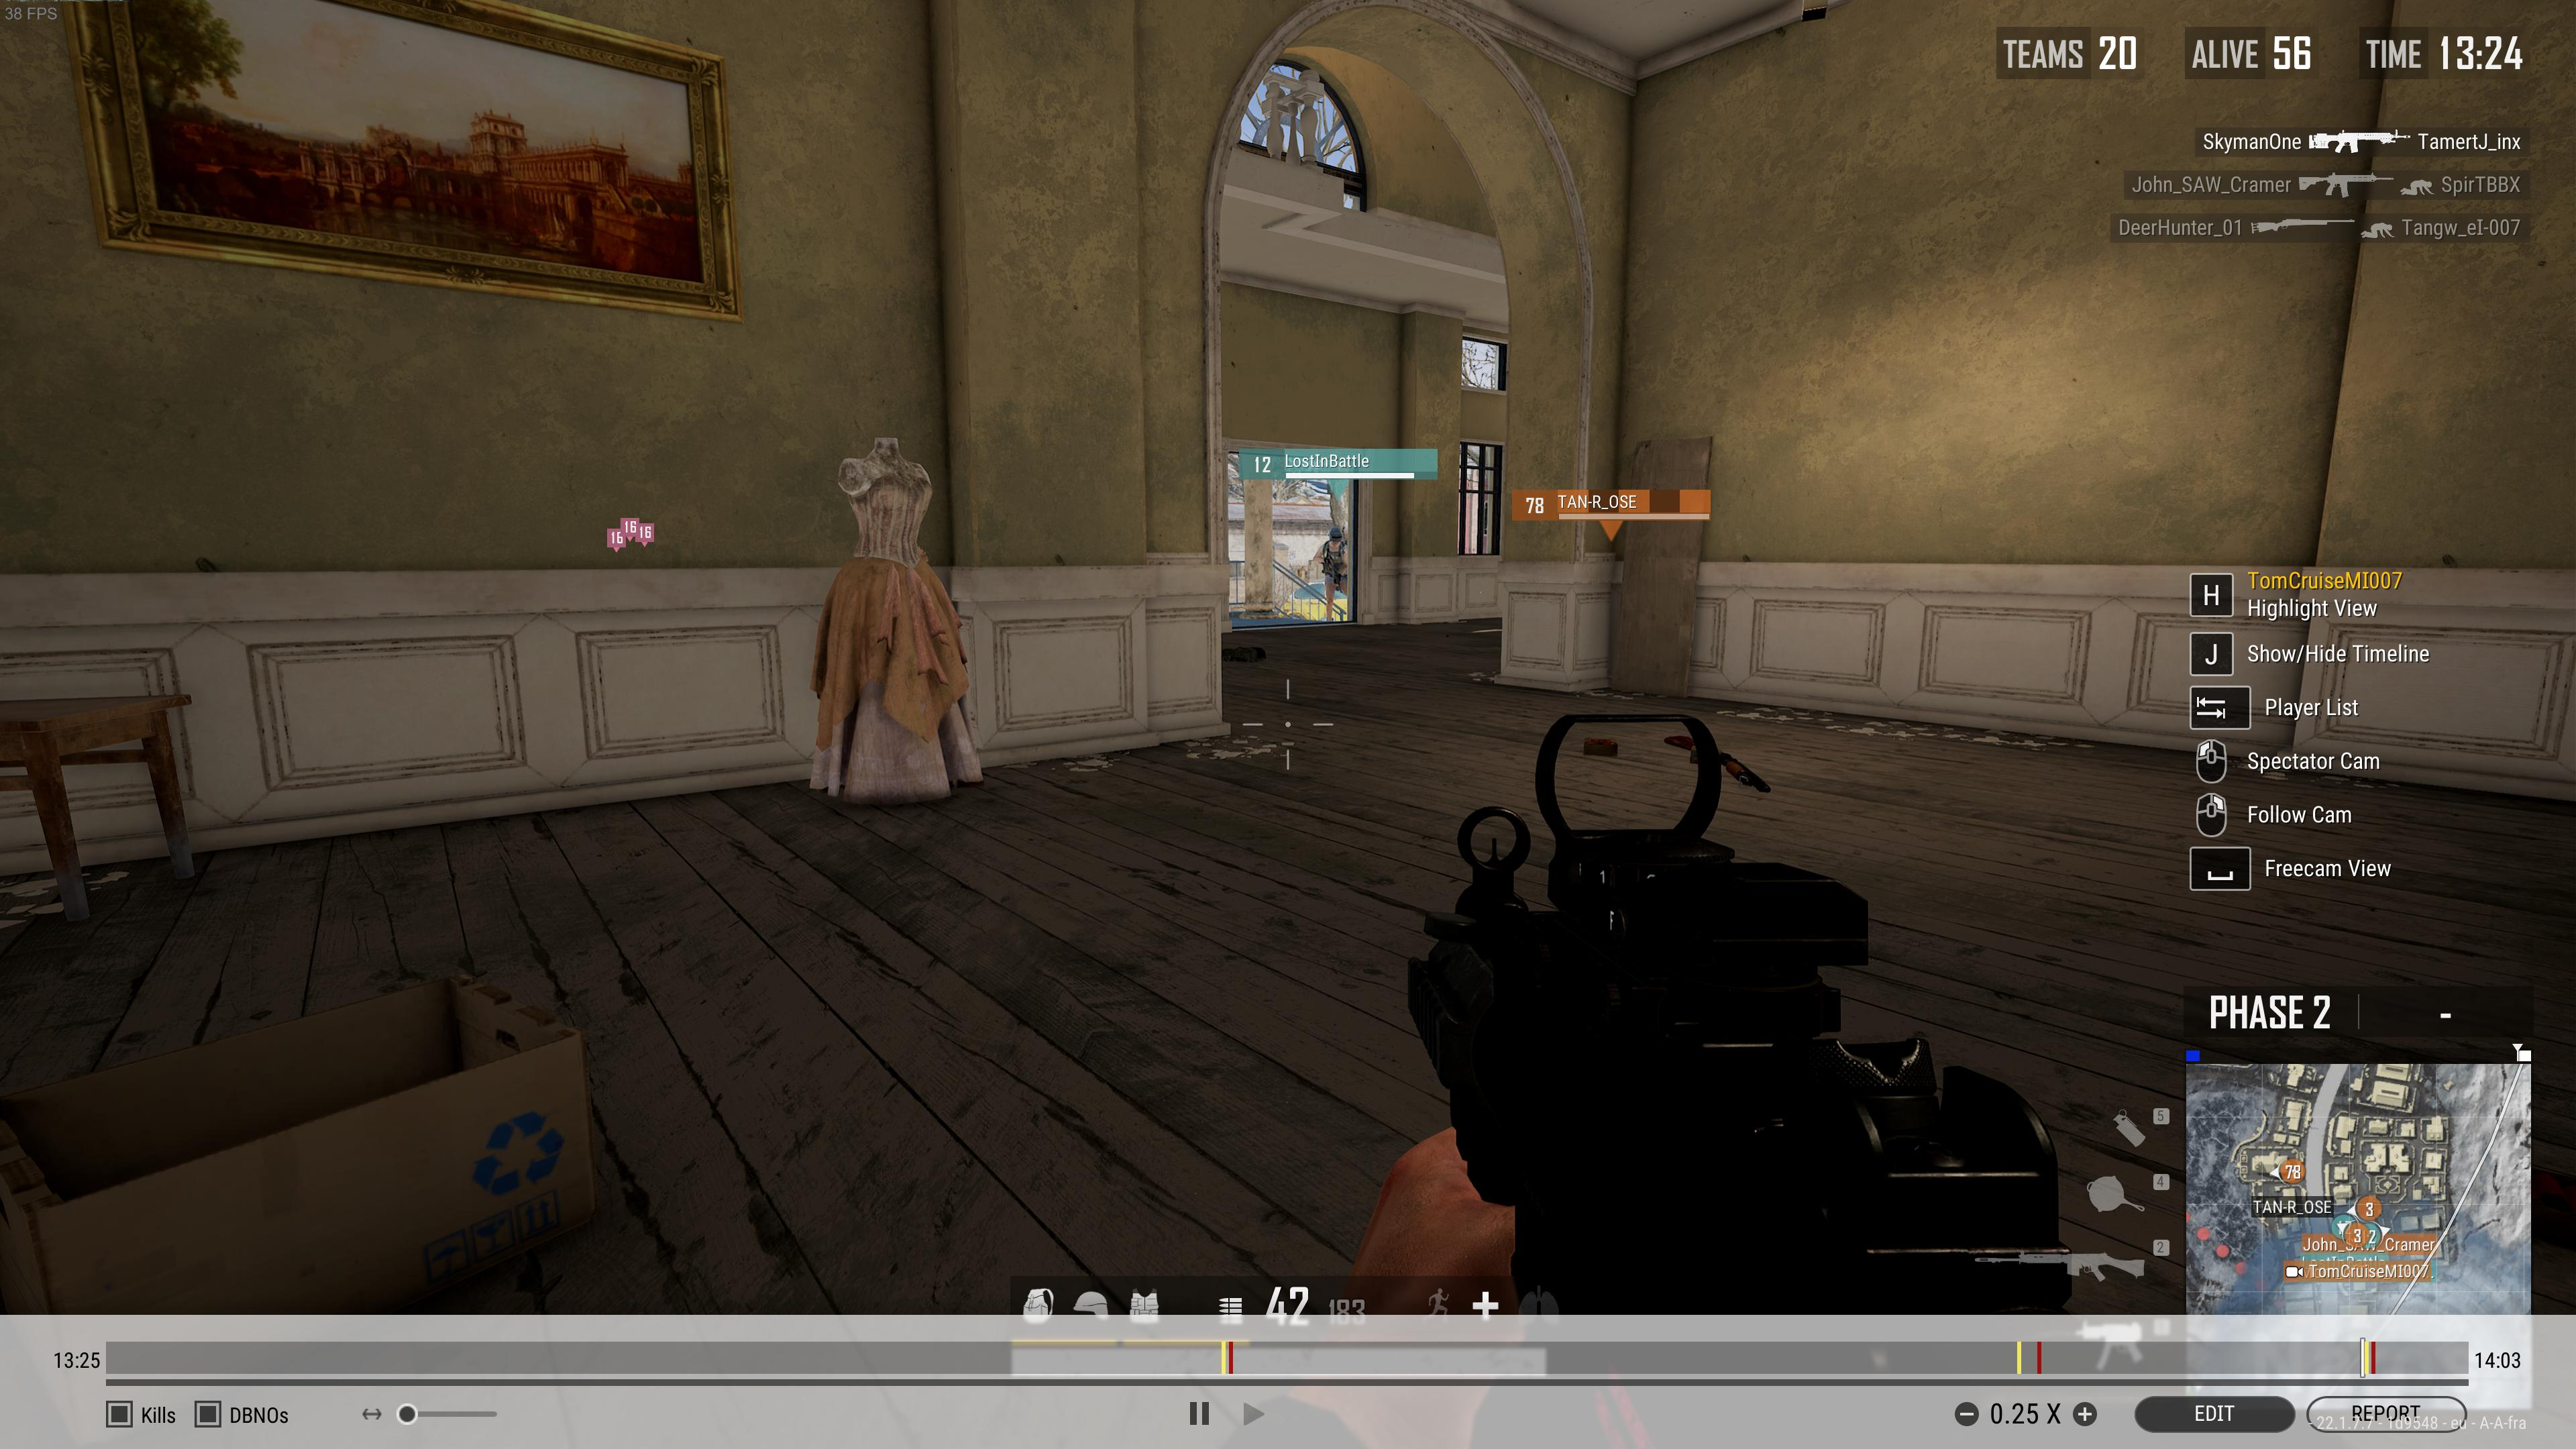enemy: (1313, 527, 1346, 621)
enemy_head: (1329, 527, 1343, 545)
